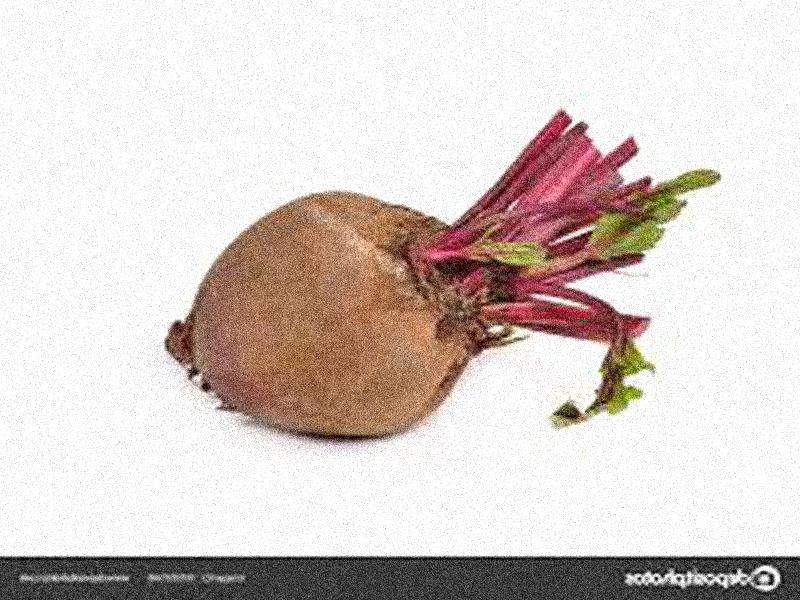Beet: (164, 110, 720, 441)
